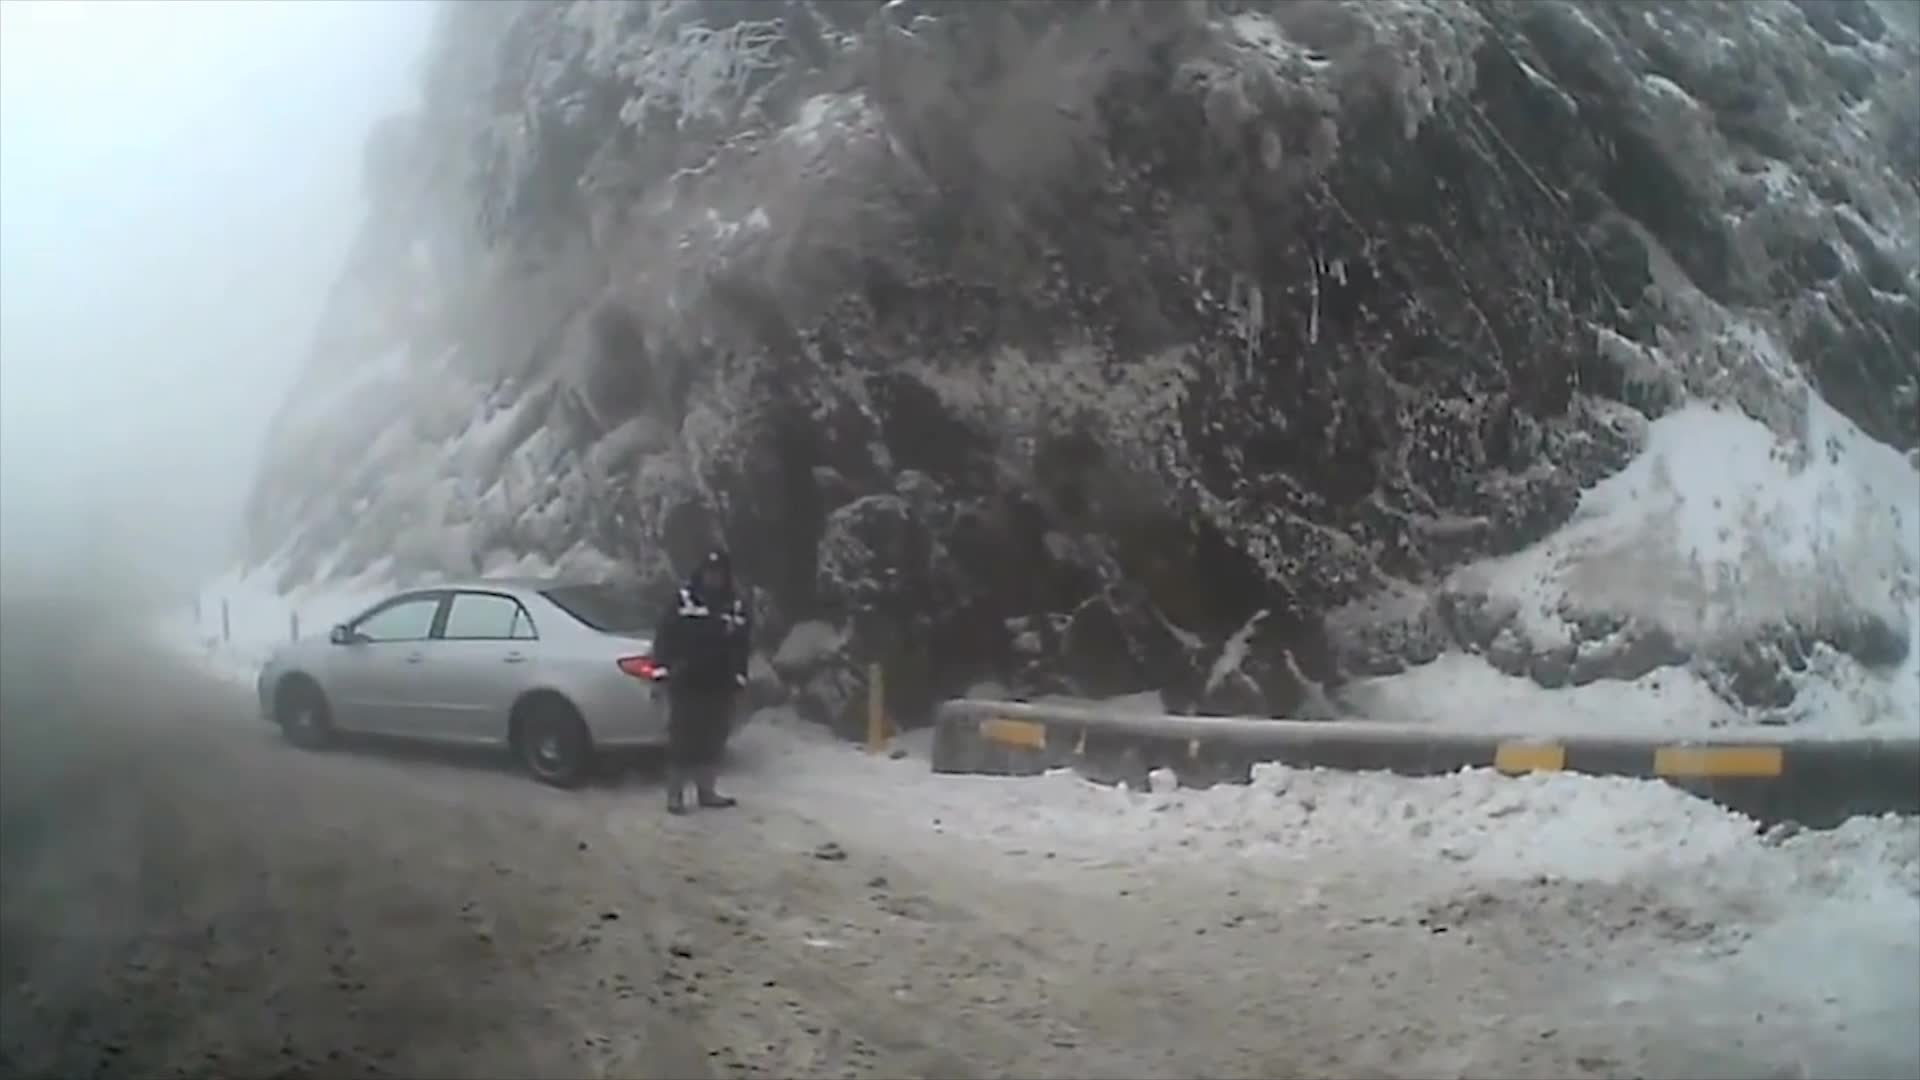pedestrian: (656, 545, 757, 816)
vehicle: (256, 576, 750, 786)
